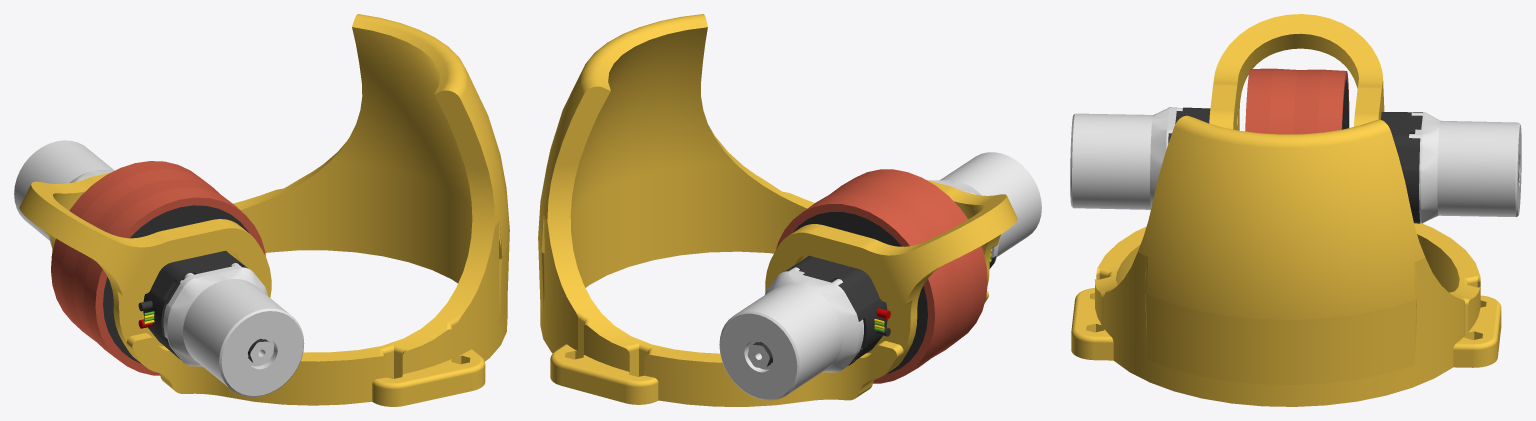
3 views of the same model, side by side, from view 1: azimuth 30°, elevation 25°; view 2: azimuth 150°, elevation 25°; view 3: azimuth 270°, elevation 25° (orthographic).
Visible parts, largest first — view 1: Slim shooter 30, id426 (×2), 4" Stealth Wheel (40A, 1/2" Hex Bore) (×2), SPARK Flex Brushless Motor Controller, 1/2" Rounded Hex (9.25"L 13.75mm OD); view 2: Slim shooter 30, id426 (×2), 4" Stealth Wheel (40A, 1/2" Hex Bore) (×2), SPARK Flex Brushless Motor Controller, 1/2" Rounded Hex (9.25"L 13.75mm OD); view 3: Slim shooter 30, id426 (×2), 4" Stealth Wheel (40A, 1/2" Hex Bore) (×2), SPARK Flex Brushless Motor Controller (×2).
Boxes of the visible parts, x1=… form: Slim shooter 30: x1=19, y1=14, x2=509, y2=406; id426 (×2): x1=14, y1=140, x2=304, y2=396; 4" Stealth Wheel (40A, 1/2" Hex Bore) (×2): x1=51, y1=161, x2=265, y2=375; SPARK Flex Brushless Motor Controller: x1=138, y1=251, x2=247, y2=359; 1/2" Rounded Hex (9.25"L 13.75mm OD): x1=247, y1=338, x2=273, y2=364; Slim shooter 30: x1=538, y1=14, x2=1017, y2=406; id426 (×2): x1=719, y1=152, x2=1041, y2=400; 4" Stealth Wheel (40A, 1/2" Hex Bore) (×2): x1=776, y1=169, x2=987, y2=383; SPARK Flex Brushless Motor Controller: x1=783, y1=255, x2=890, y2=365; 1/2" Rounded Hex (9.25"L 13.75mm OD): x1=747, y1=342, x2=772, y2=368; Slim shooter 30: x1=1071, y1=14, x2=1501, y2=406; id426 (×2): x1=1070, y1=107, x2=1521, y2=223; 4" Stealth Wheel (40A, 1/2" Hex Bore) (×2): x1=1245, y1=68, x2=1349, y2=134; SPARK Flex Brushless Motor Controller (×2): x1=1168, y1=107, x2=1422, y2=223.
Size of the model in its own units: 0.2688 by 0.1446 by 0.2376.
